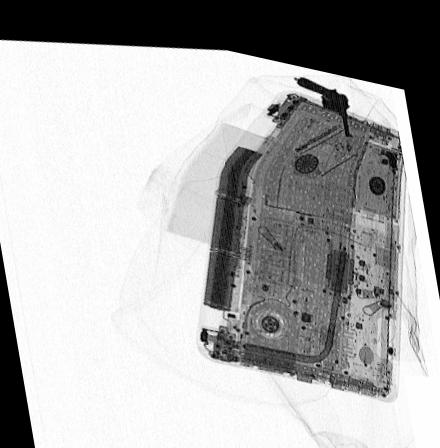Gun: (295, 62, 352, 122)
